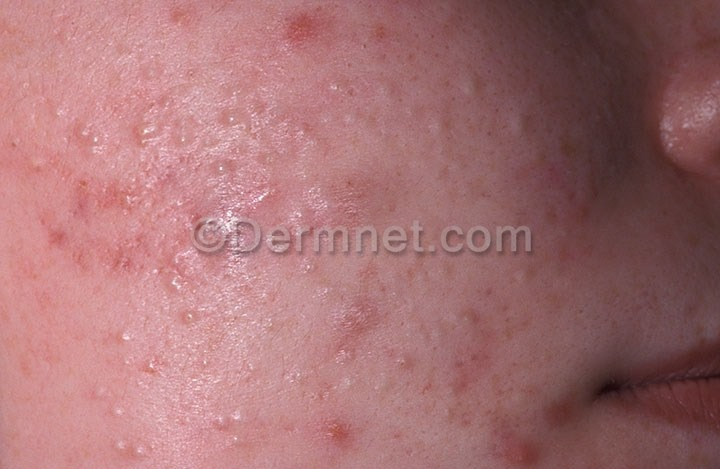Acne: (23, 30, 569, 465)
